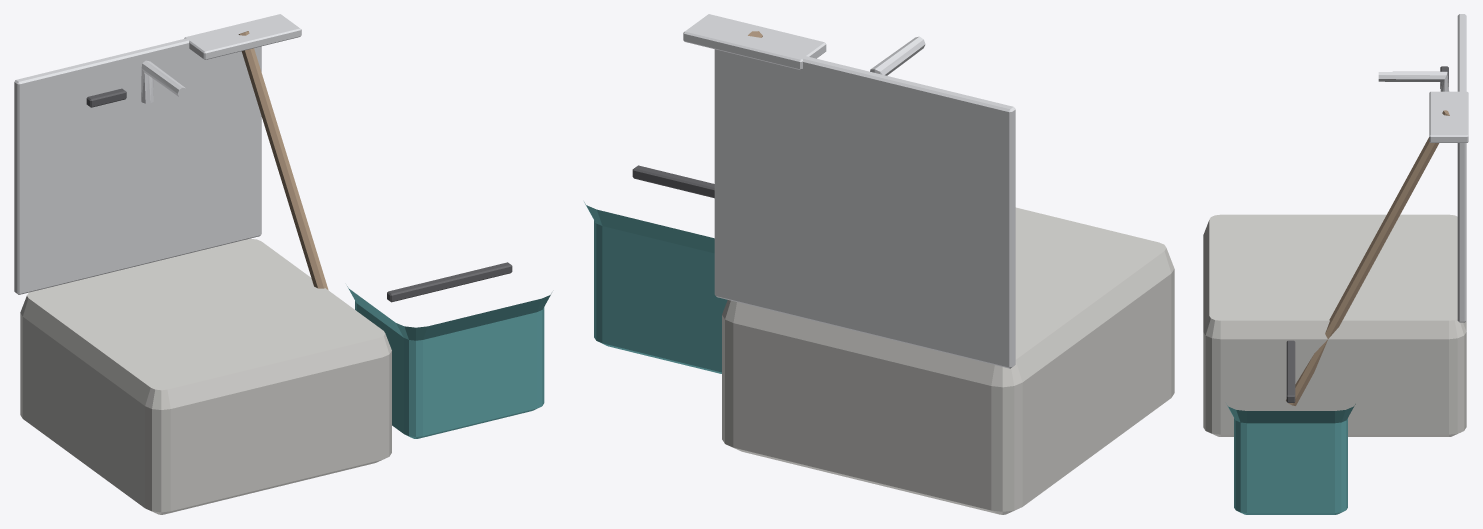
File: fast-food-and-drive-thru-mop-station-0b425bf6__16147.glb
3 renders of one model, left to right at view 1: azimuth 30°, elevation 25°; view 2: azimuth 150°, elevation 25°; view 3: azimuth 270°, elevation 25°, orthographic. The views are drawn at different scales.
Visible parts, largest first — view 1: mop-station; view 2: mop-station; view 3: mop-station.
Boxes of the visible parts, <box> form: mop-station: <box>14,14,551,514</box>; mop-station: <box>584,14,1174,514</box>; mop-station: <box>1203,14,1468,514</box>.
Size of the model in its own units: 1.03 by 0.8063 by 0.605.
